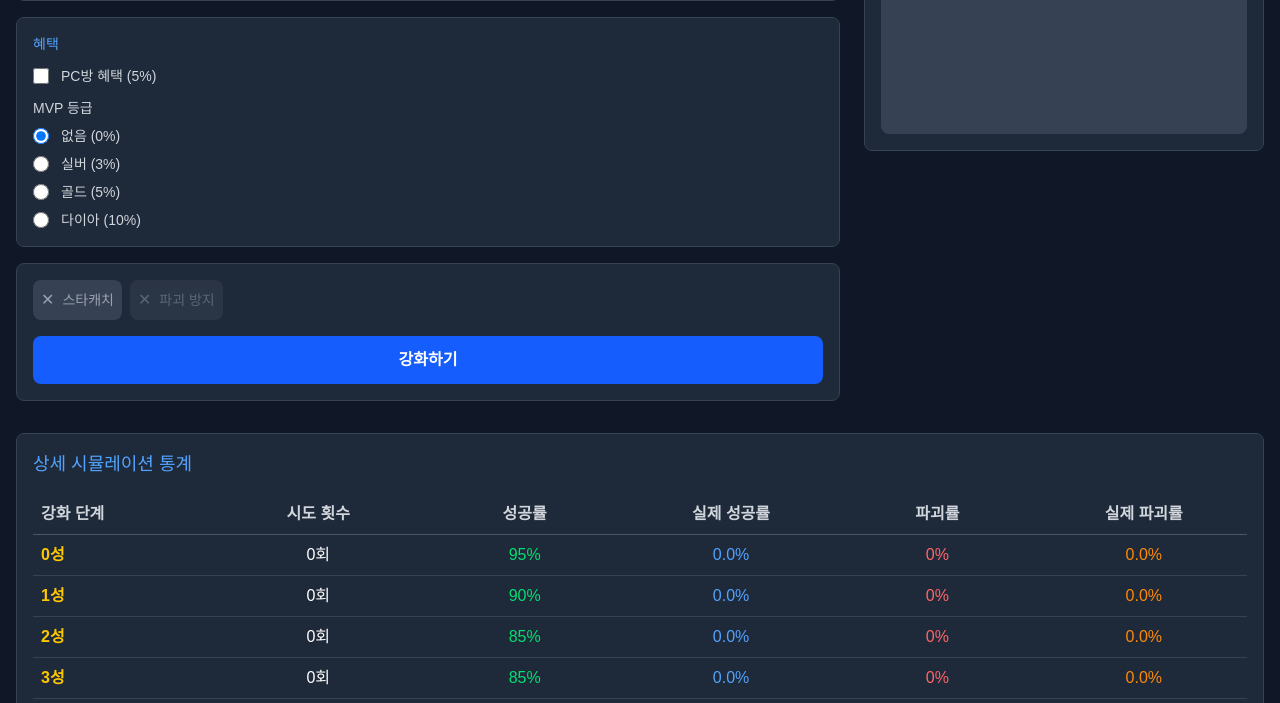
Test: 시뮬레이터 › 기본 강화 › 초기화 버튼 → 모든 상태 리셋 확인
The width and height of the screenshot is (1280, 703).
(page scrolled)
Note: 강화 3번 실행
Step 1. Click the button with test id "btn-enhance" → (428, 360), box [33,336,823,384]
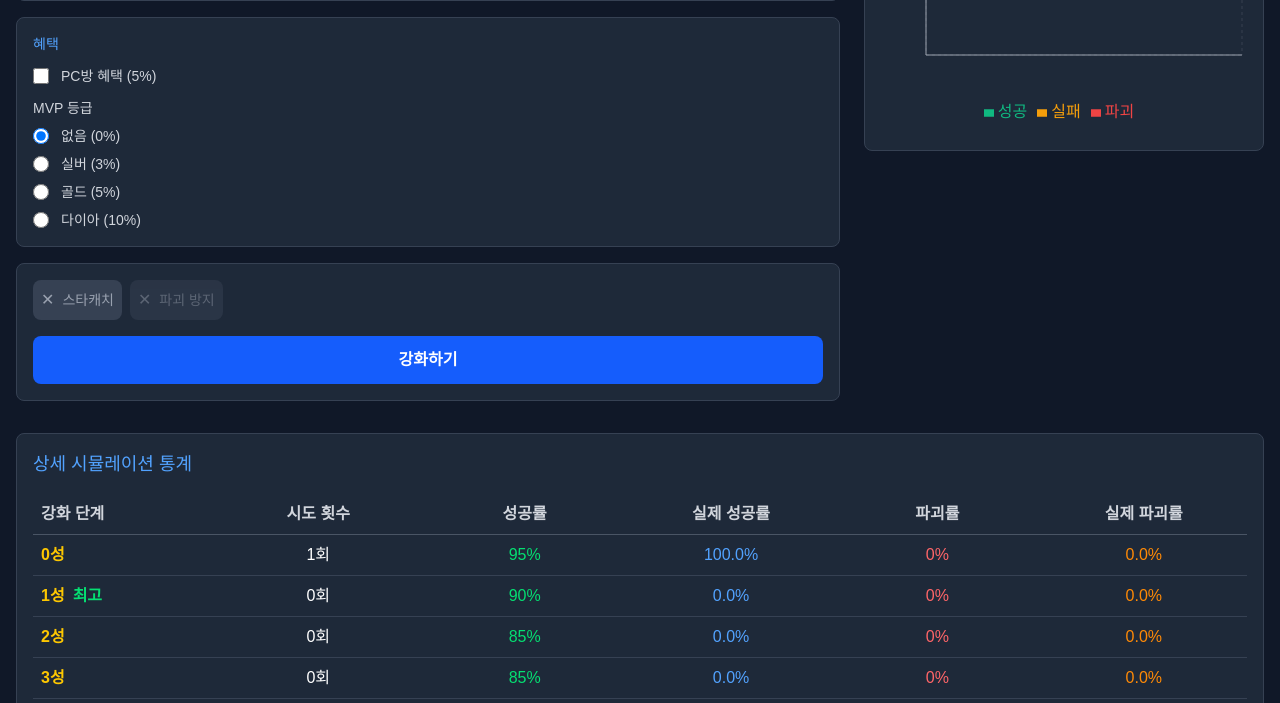
Step 2. Click the button with test id "btn-enhance" → (428, 360), box [33,336,823,384]
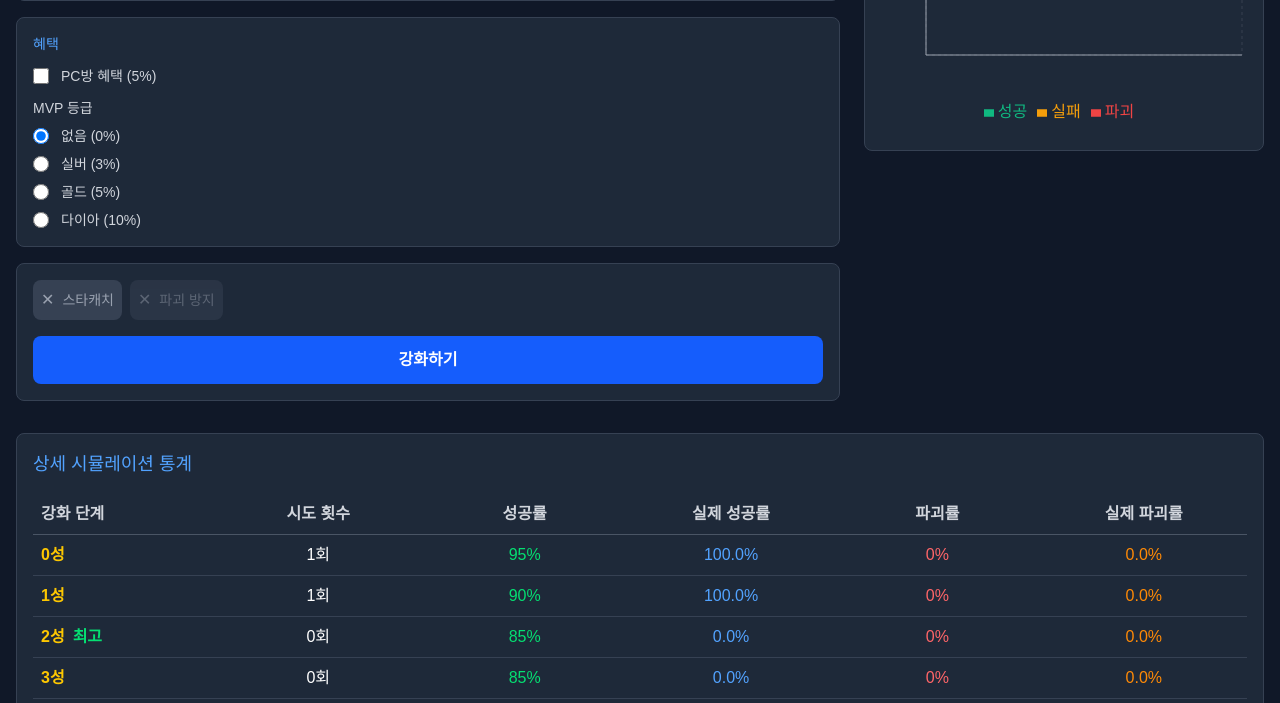
Step 3. Click the button with test id "btn-enhance" → (428, 360), box [33,336,823,384]
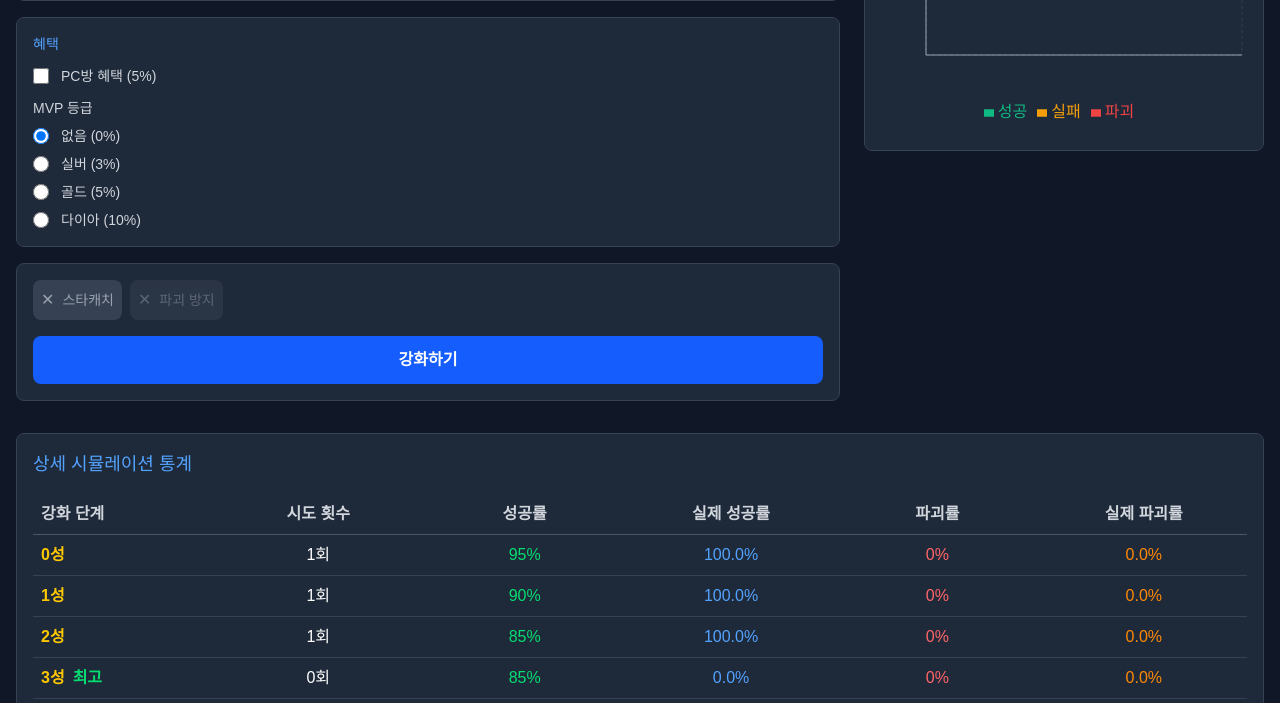
Expected: the element with test id "attempt" does not show "0회"
Step 4. Scroll
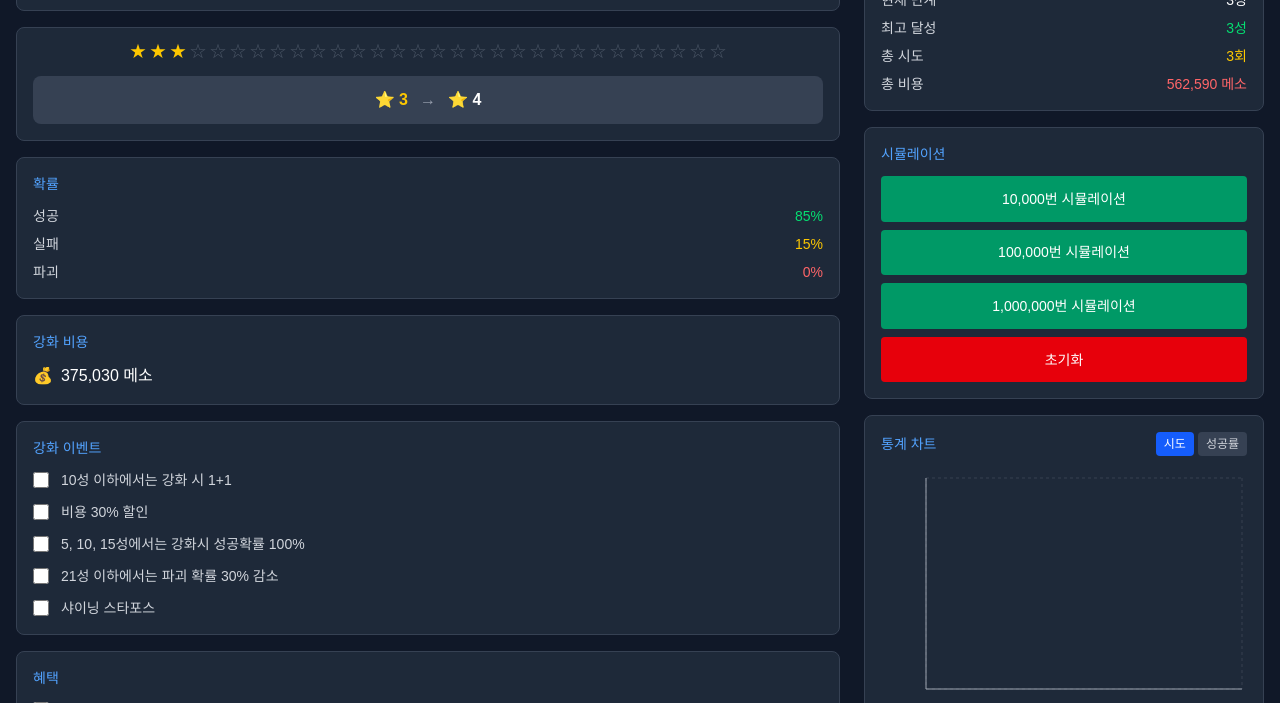
Note: 초기화 버튼 클릭
Step 5. Click the button with test id "btn-bulk-reset" → (1064, 360), box [881,337,1247,383]
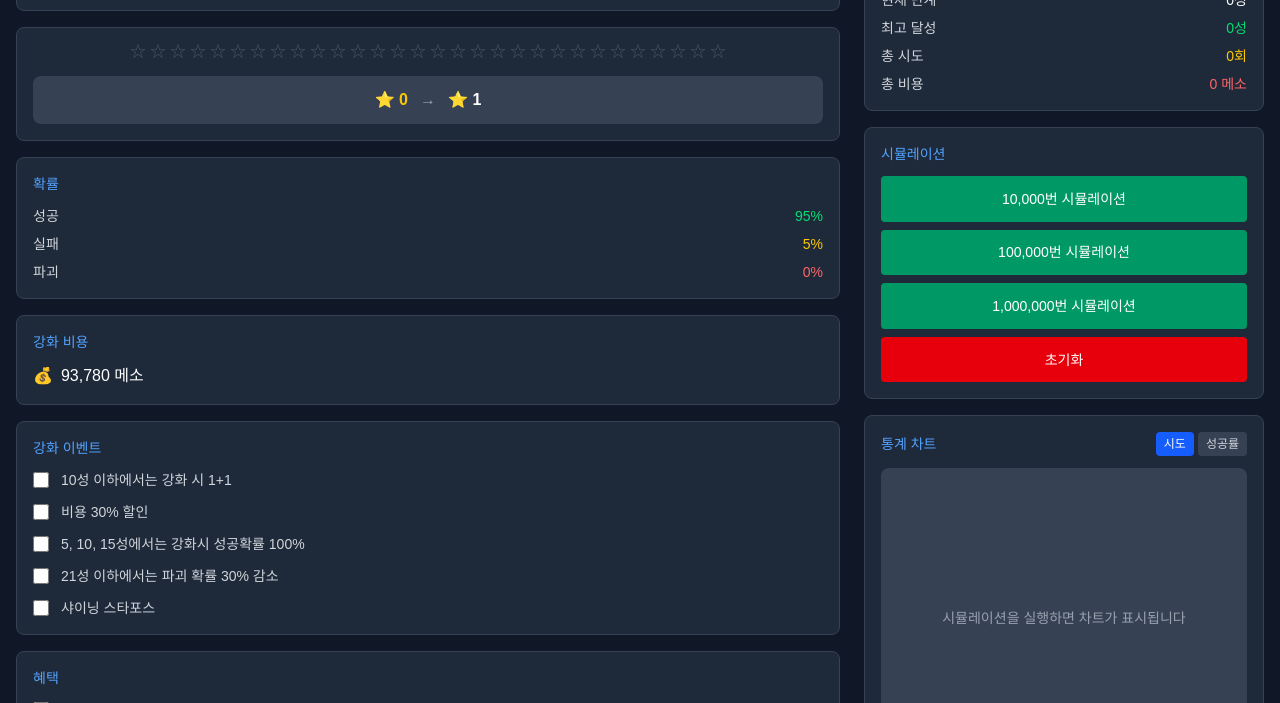
Expected: the text with test id "cost" shows "0", [1210,76,1218,92]
Result: the text with test id "attempt" reads "0회" at [1226,46,1247,66]
Result: the text with test id "current-level" reads "0성" at [1226,0,1247,10]
